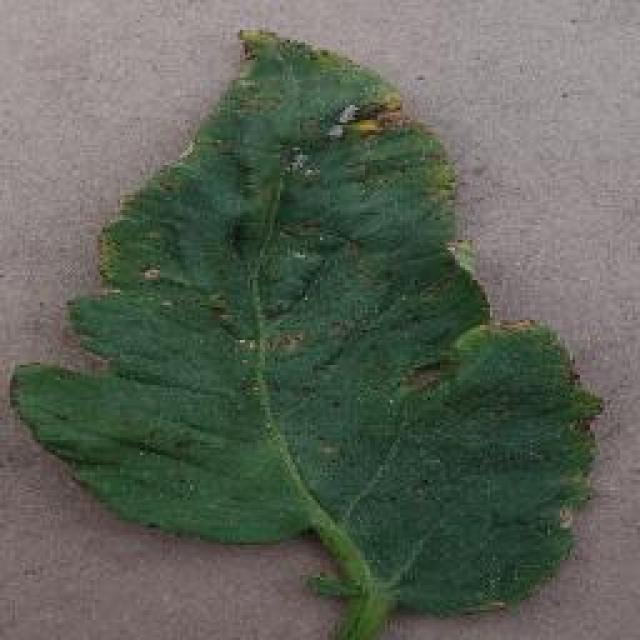Tomato bacterial spot leaf: (11, 20, 604, 627)
